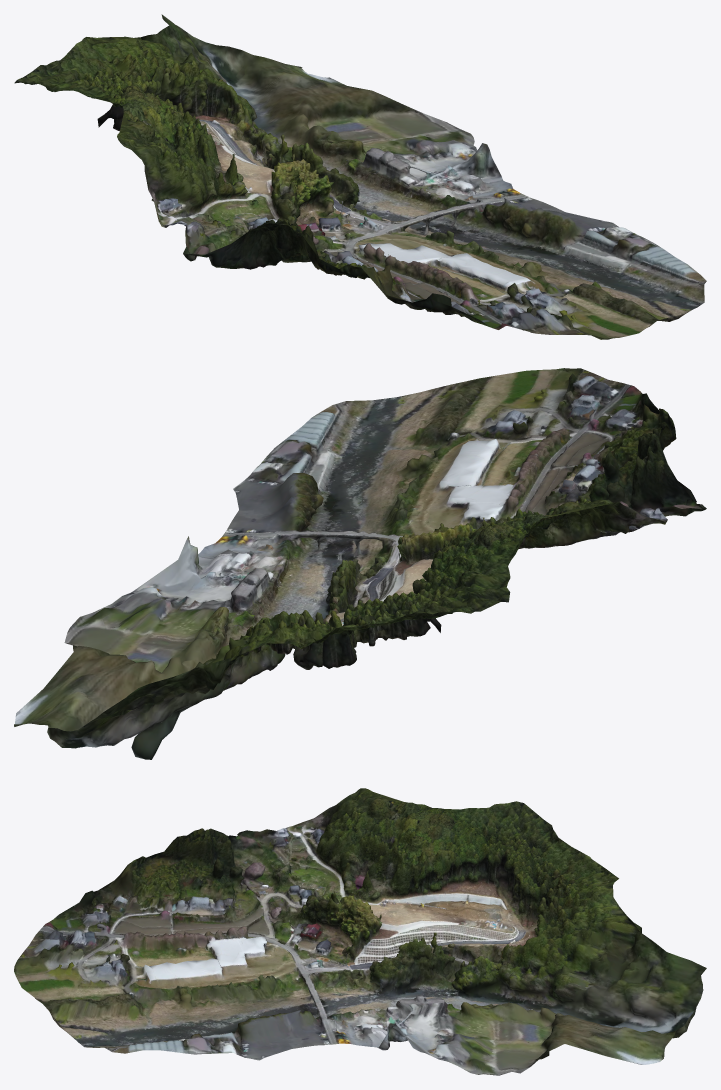
The model's file is kamiyama-kosen-office-20250410.glb.
3 renders of one model, top to bottom at view 1: azimuth 30°, elevation 25°; view 2: azimuth 150°, elevation 25°; view 3: azimuth 270°, elevation 25°, orthographic. The views are drawn at different scales.
Visible parts, largest first — view 1: ObjectCapture; view 2: ObjectCapture; view 3: ObjectCapture.
Part boxes in pixels (x1,y1,x2,y2): ObjectCapture: (14,14,706,339); ObjectCapture: (14,368,706,759); ObjectCapture: (14,788,706,1075).
Bounding box in the file's own units: 313 × 129 × 548.
Materials: 1 (1 with a texture image).
